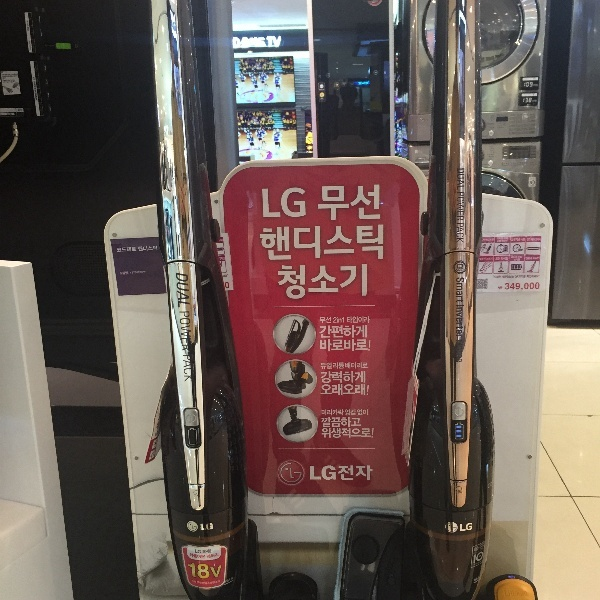text: (179, 311, 192, 384), (273, 224, 288, 262), (289, 224, 304, 262), (305, 224, 320, 262), (321, 224, 336, 262), (337, 224, 352, 262), (353, 224, 368, 262), (369, 224, 384, 262), (321, 184, 336, 221), (337, 184, 352, 221), (353, 184, 368, 221), (289, 264, 304, 300), (305, 264, 320, 300), (321, 264, 336, 300), (337, 264, 352, 300), (177, 271, 191, 309), (353, 264, 367, 300), (273, 188, 288, 219), (289, 188, 304, 219), (260, 224, 272, 262), (369, 184, 381, 221), (457, 192, 464, 243), (279, 264, 288, 300), (262, 188, 272, 219), (456, 304, 464, 339), (289, 463, 302, 484), (193, 563, 208, 580), (321, 466, 337, 481), (353, 465, 368, 480), (455, 339, 464, 364), (209, 563, 222, 580), (338, 465, 352, 480), (321, 339, 336, 352), (337, 339, 352, 352), (353, 339, 368, 352), (241, 37, 256, 50), (353, 384, 369, 396), (457, 277, 464, 303), (321, 384, 336, 396), (337, 384, 352, 396), (321, 372, 336, 384), (337, 372, 352, 384), (321, 326, 336, 338), (337, 326, 352, 338), (353, 326, 368, 338), (280, 463, 288, 484), (337, 417, 352, 428), (353, 372, 366, 384), (322, 417, 336, 428), (310, 466, 320, 481), (337, 428, 352, 438), (353, 428, 368, 438), (513, 282, 528, 292), (322, 428, 336, 438), (458, 168, 464, 191), (499, 282, 512, 292), (257, 37, 267, 50), (353, 316, 368, 324), (529, 282, 540, 292), (273, 36, 282, 48), (321, 363, 336, 370), (337, 363, 352, 370), (353, 363, 368, 370), (321, 317, 336, 324), (232, 37, 240, 50), (474, 550, 480, 567), (353, 417, 362, 428), (497, 237, 512, 243), (465, 522, 473, 533), (187, 563, 192, 580), (322, 410, 336, 416), (200, 522, 208, 532), (193, 553, 206, 559), (129, 271, 144, 276), (318, 184, 320, 221), (193, 311, 194, 384), (209, 580, 221, 586), (225, 576, 234, 584), (266, 36, 272, 48), (481, 550, 485, 567), (357, 410, 368, 416), (195, 549, 208, 554), (145, 246, 158, 251), (369, 465, 373, 480), (193, 580, 208, 584), (193, 521, 198, 532), (197, 581, 208, 586), (117, 247, 128, 252), (481, 257, 494, 261), (513, 238, 526, 242), (369, 428, 374, 438), (209, 553, 219, 558), (337, 317, 344, 324), (345, 409, 352, 416), (529, 238, 541, 242), (497, 276, 512, 279), (188, 521, 192, 532), (529, 274, 540, 278), (460, 522, 464, 533), (337, 410, 344, 416), (482, 239, 496, 242), (514, 259, 528, 262), (209, 522, 213, 532), (347, 316, 352, 324), (120, 271, 128, 276), (129, 247, 137, 252), (515, 275, 528, 278), (501, 258, 512, 261), (529, 257, 540, 260), (305, 188, 306, 219), (202, 549, 208, 554), (513, 256, 523, 259), (138, 246, 144, 251), (369, 339, 371, 352), (523, 98, 528, 103), (524, 82, 528, 88), (529, 82, 533, 88), (333, 317, 336, 324), (353, 409, 356, 416), (209, 549, 212, 554), (529, 98, 532, 103), (497, 258, 501, 261), (190, 553, 192, 559), (493, 276, 496, 279), (369, 316, 370, 324), (526, 257, 528, 260), (145, 271, 146, 276), (207, 553, 208, 558), (527, 274, 528, 278), (479, 257, 480, 261), (527, 238, 528, 242), (513, 276, 514, 279), (495, 258, 496, 261), (511, 256, 512, 259)
